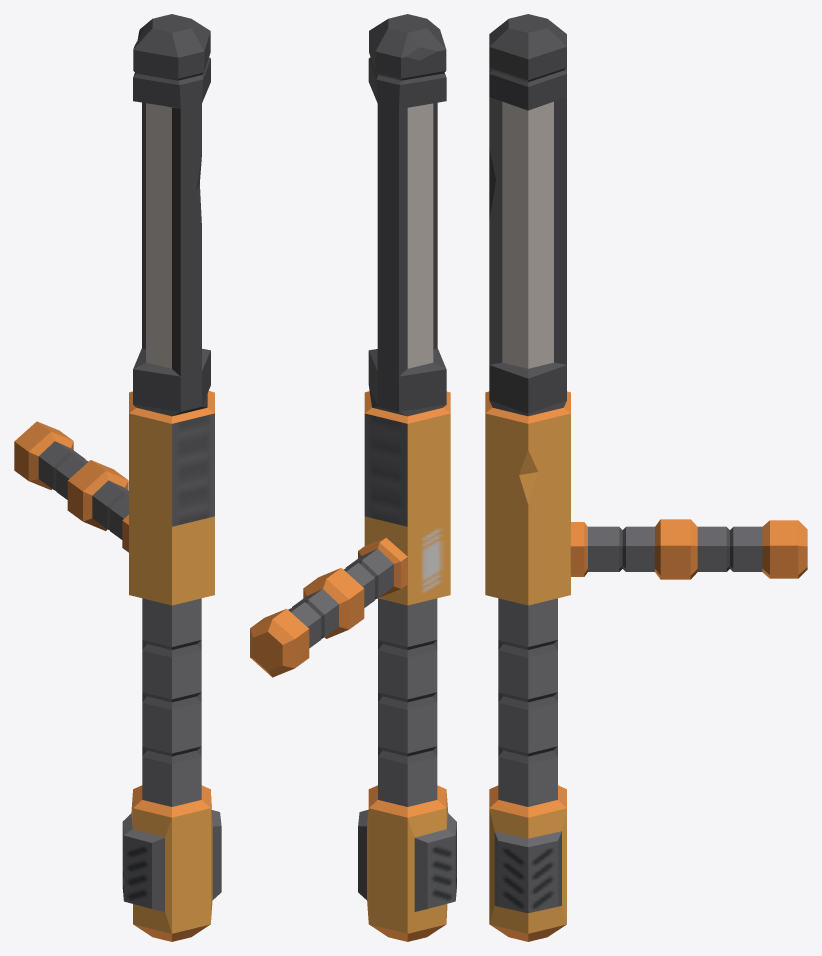
Rendered from SM_Wep_Shock_Stick_02.fbx.
The picture shows the model from 3 angles, left to right: view 1: azimuth 30°, elevation 25°; view 2: azimuth 150°, elevation 25°; view 3: azimuth 270°, elevation 25°; orthographic projection.
Parts seen in each view (by area): view 1: SM_Wep_Shock_Stick_02; view 2: SM_Wep_Shock_Stick_02; view 3: SM_Wep_Shock_Stick_02.
Part boxes in pixels (box(x1,y1,x2,y2)): SM_Wep_Shock_Stick_02: box(14, 14, 221, 941); SM_Wep_Shock_Stick_02: box(250, 14, 456, 941); SM_Wep_Shock_Stick_02: box(485, 14, 807, 941).
Bounding box in the file's own units: 10.89 × 98.33 × 31.6.
